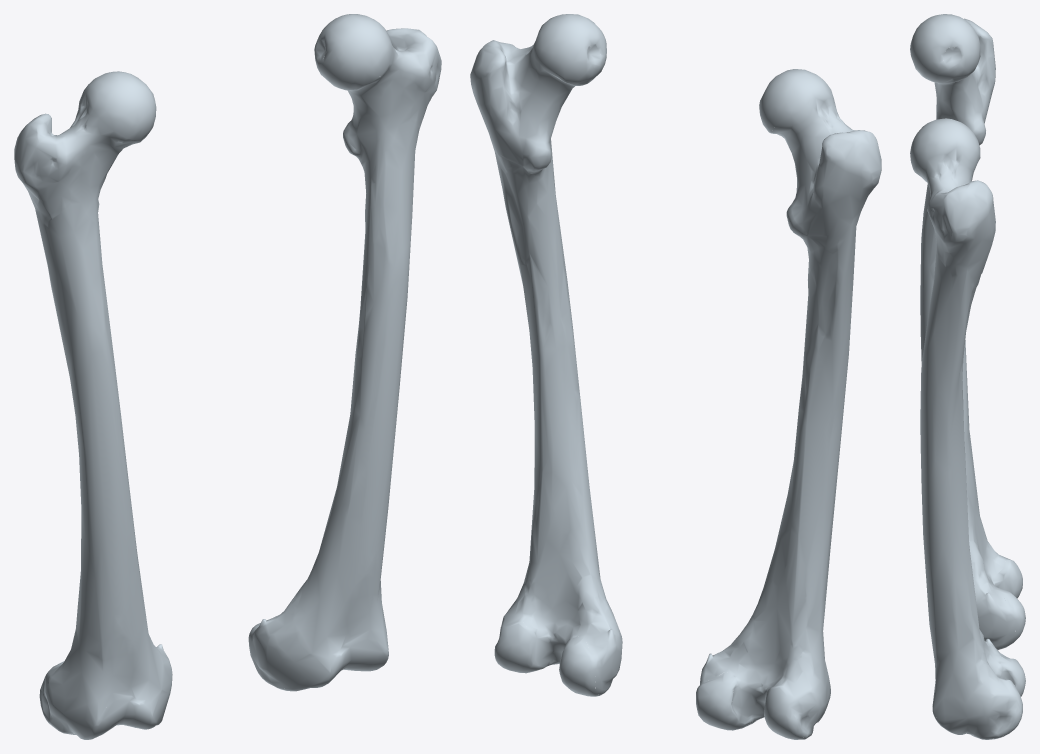
File: femur.glb
3 views of the same model, side by side, from view 1: azimuth 30°, elevation 25°; view 2: azimuth 150°, elevation 25°; view 3: azimuth 270°, elevation 25° (orthographic). The views are drawn at different scales.
Visible parts, largest first — view 1: femur; view 2: femur; view 3: femur.
Part boxes in pixels (left/top/right/bottom): femur: left=14, top=14, right=441, bottom=739; femur: left=470, top=14, right=881, bottom=739; femur: left=910, top=14, right=1025, bottom=739.
Bounding box in the file's own units: 0.297 × 0.4544 × 0.0781.
